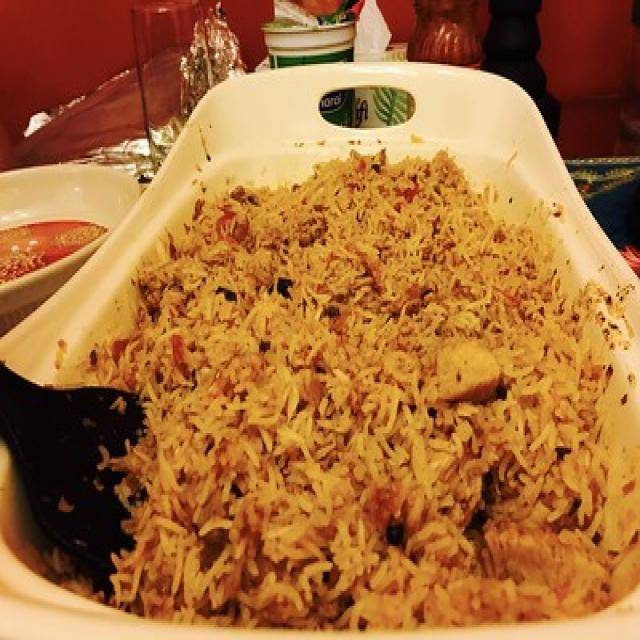Biryani: (175, 174, 546, 627)
